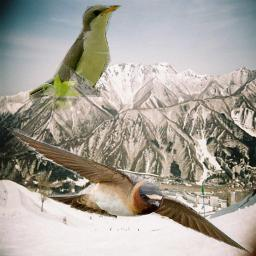Cuckoo: (29, 2, 122, 112)
Swallow: (2, 123, 255, 253)
